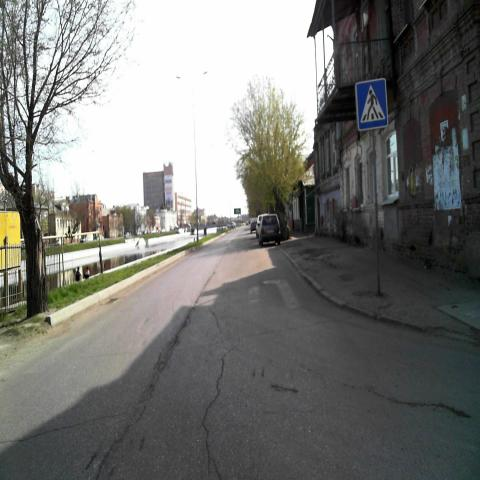5_19_1: (355, 78, 389, 132)
